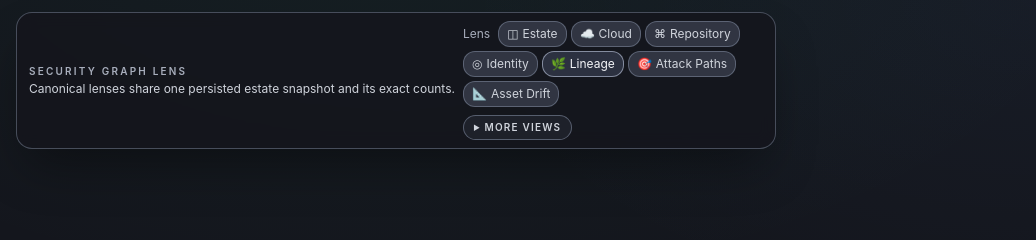
GraphLensSwitcher › renders the floating lens bar for full-canvas graph pages
expect the element with test id "graph-lens-floating-bar" is shown: met, box [16,12,776,149]
expect the text "Security Graph Lens" is shown: met, box [29,65,187,77]
Click the heading "More views": (518, 128) [463,115,572,140]
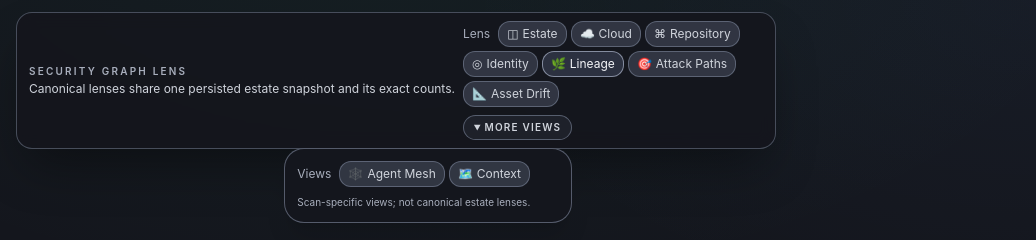
expect the text "Agent Mesh" is shown: met, box [367,166,436,182]
expect the text "Context" is shown: met, box [477,166,521,182]
expect the text "Scan-specific views; not canonical estate lenses." is shown: met, box [297,195,530,210]
